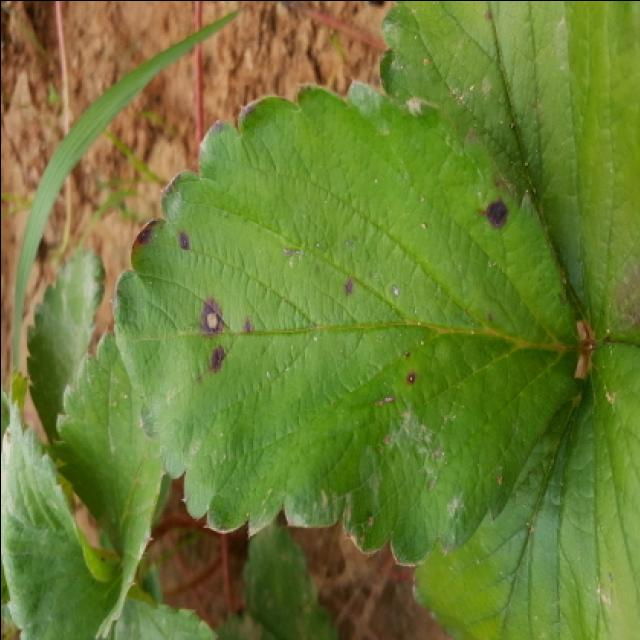Leaf Spot: (111, 77, 591, 566), (377, 2, 638, 343), (410, 339, 638, 640)
